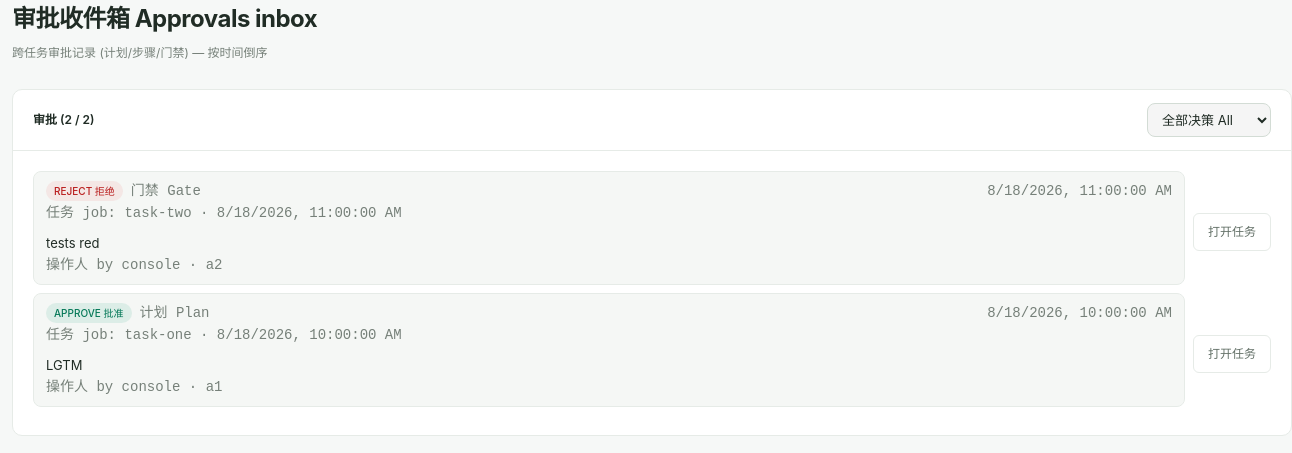
Test: AgentApprovalsInbox › filters by decision
The image size is (1292, 453).
Check: the heading "审批 (2 / 2)" is shown, box [33,110,94,130]
Select "拒绝 Reject" in the dropdown: x=1209, y=120 [1147,103,1271,137]
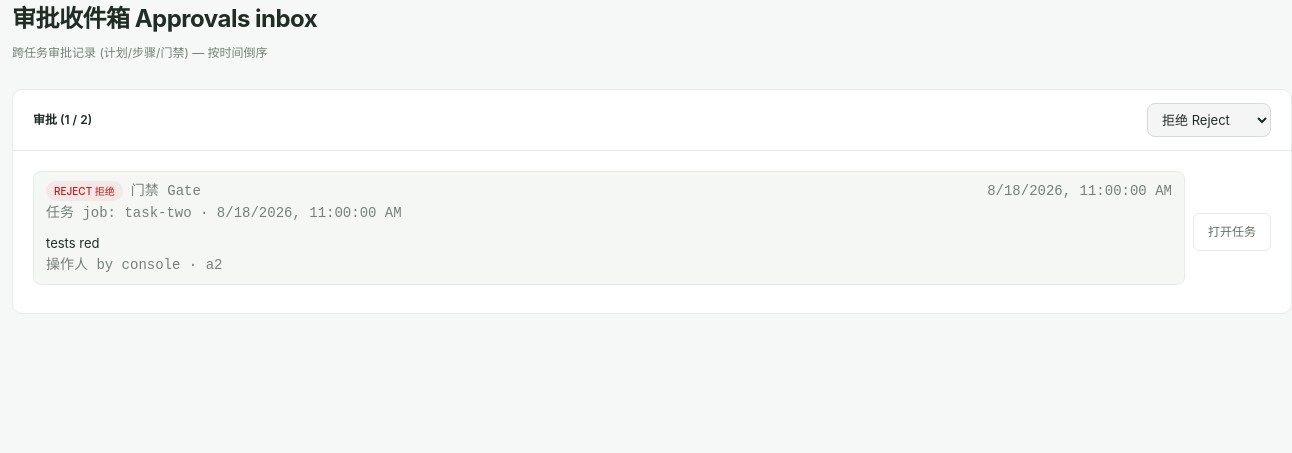
Check: the text "REJECT 拒绝" is shown, box [46,181,123,201]
Check: the heading "审批 (1 / 2)" is shown, box [33,110,92,130]
Check: the link "APPROVE 批准" is gone
